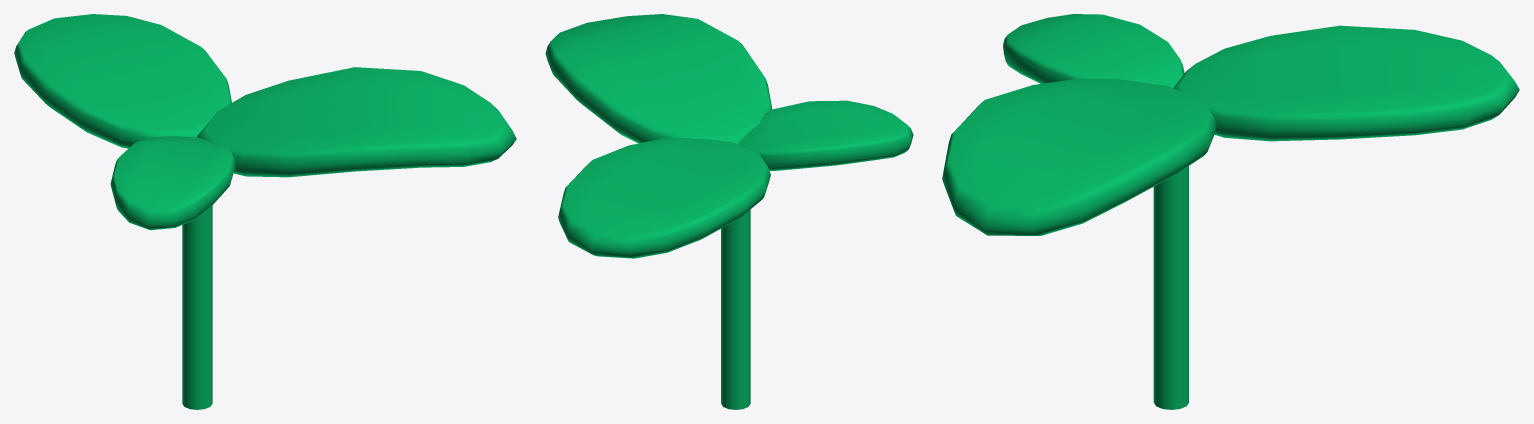
File: Farm_4_Plant_3.glb
3 renders of one model, left to right at view 1: azimuth 30°, elevation 25°; view 2: azimuth 150°, elevation 25°; view 3: azimuth 270°, elevation 25°, orthographic. The views are drawn at different scales.
Visible parts, largest first — view 1: Farm_4_Plant_3; view 2: Farm_4_Plant_3; view 3: Farm_4_Plant_3.
Part boxes in pixels (x1=…): Farm_4_Plant_3: x1=14, y1=14, x2=516, y2=409; Farm_4_Plant_3: x1=545, y1=14, x2=913, y2=409; Farm_4_Plant_3: x1=942, y1=14, x2=1519, y2=409.
Size of the model in its own units: 0.2935 by 0.2247 by 0.3391.
1 material, 1 textured.
